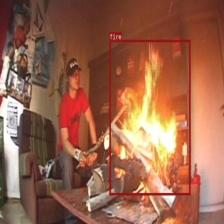fire: (109, 39, 190, 195)
